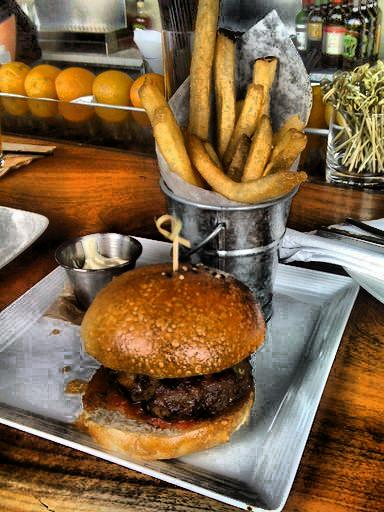burger: (82, 269, 286, 476)
